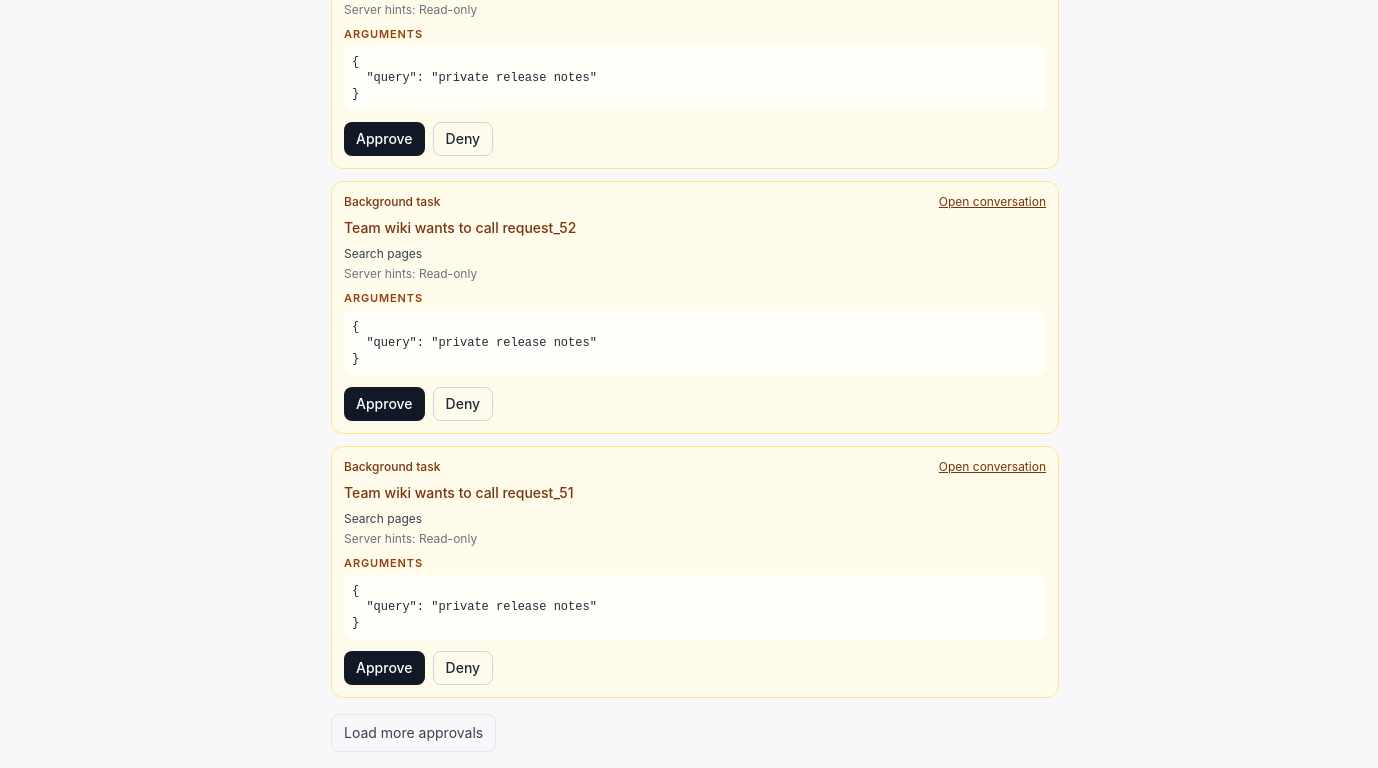
Test case: owner tool approvals › uses a lower-bound count and loads older pending approvals with a cursor
(page scrolled)
Step 1. Click the button "Load more approvals" → (414, 733), box [331, 714, 496, 752]
(page scrolled)
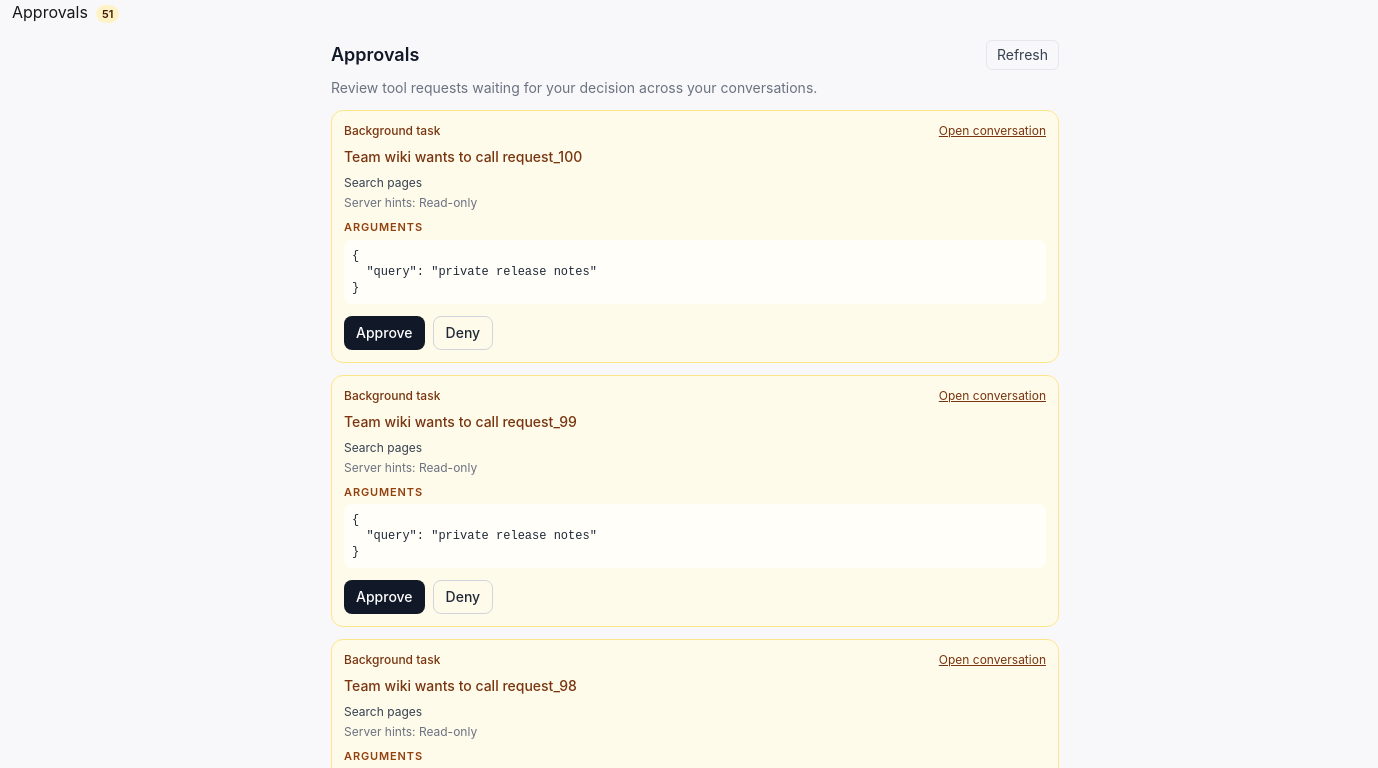
expect the link with aria-label "Approvals (51 pending)" is shown: met, box [12, 2, 119, 22]
expect the button "Load more approvals" is gone: met
